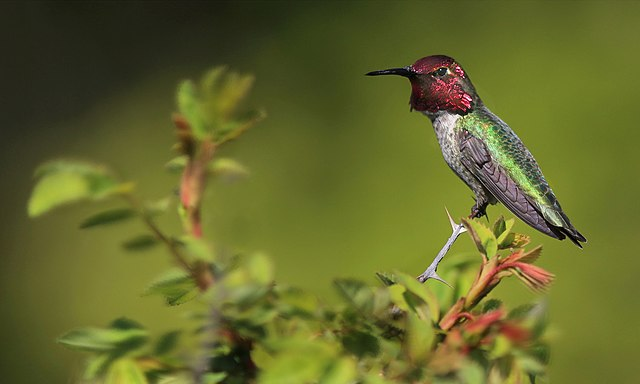calypte anna: (359, 52, 586, 246)
